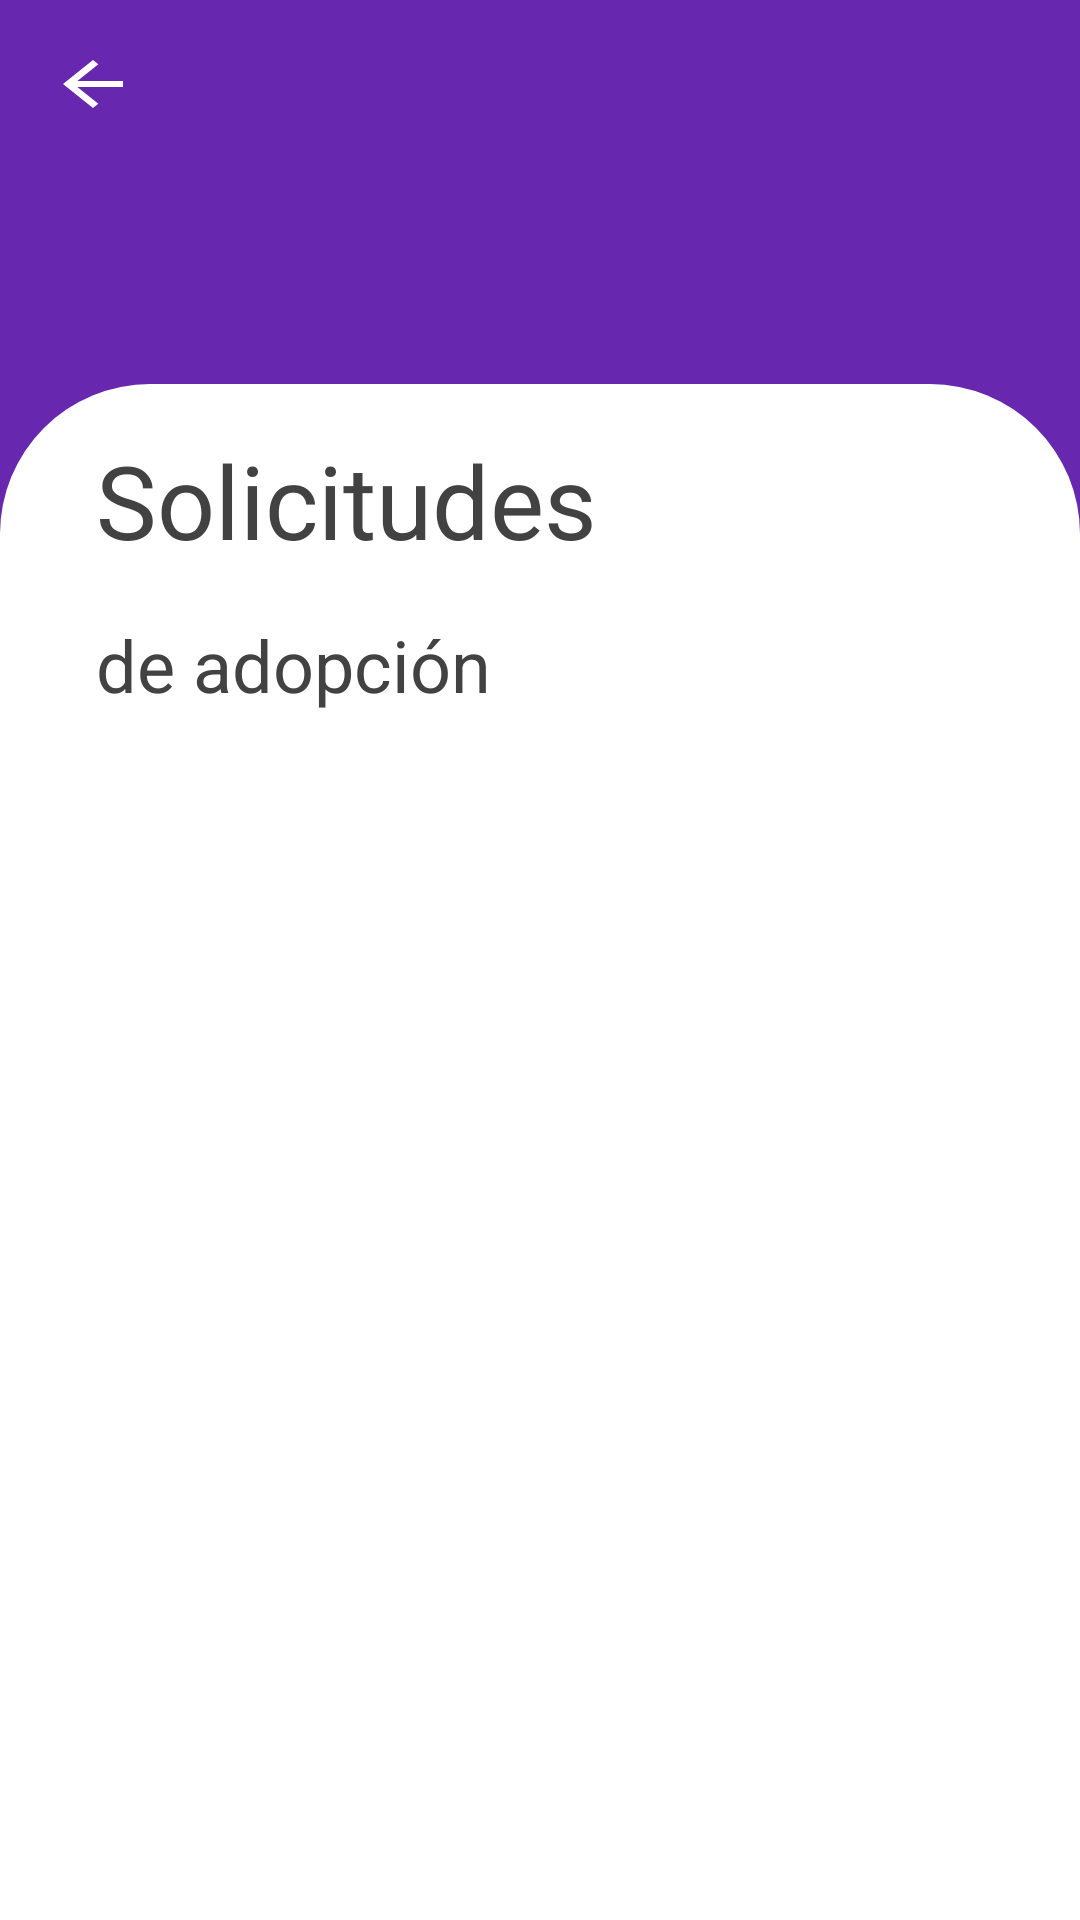

Icons on this 1080w x 1920h Android screen, each with the point to tap as point (x, y):
arrow back: point (93, 84)
